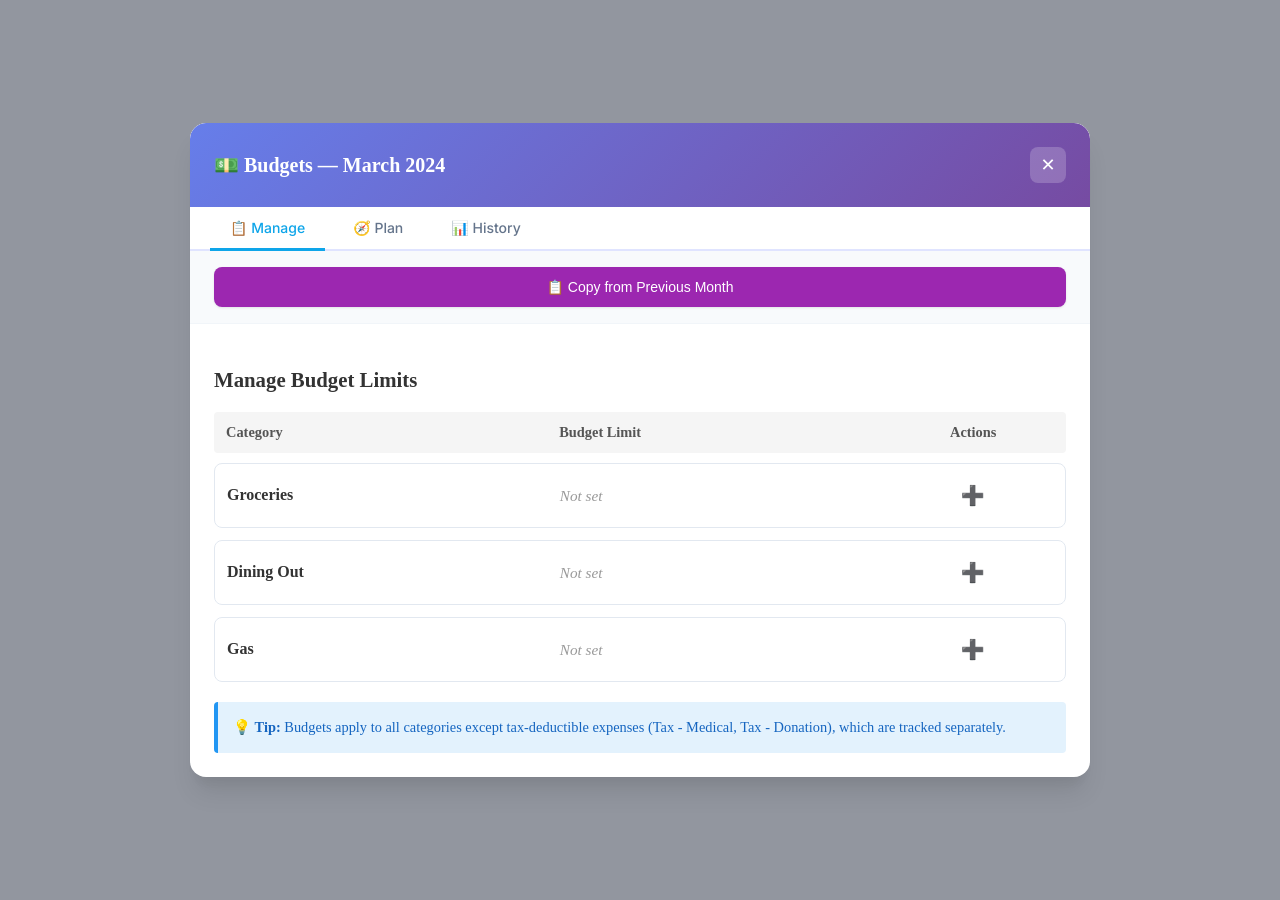
BudgetsModal Copy Success Condition PBT › Specific copy result examples › shows "No budgets found" only when { copied: 0, overwritten: 0 }
Click the button "📋 Copy from Previous Month".
click(640, 287)  # box [214,267,1066,307]
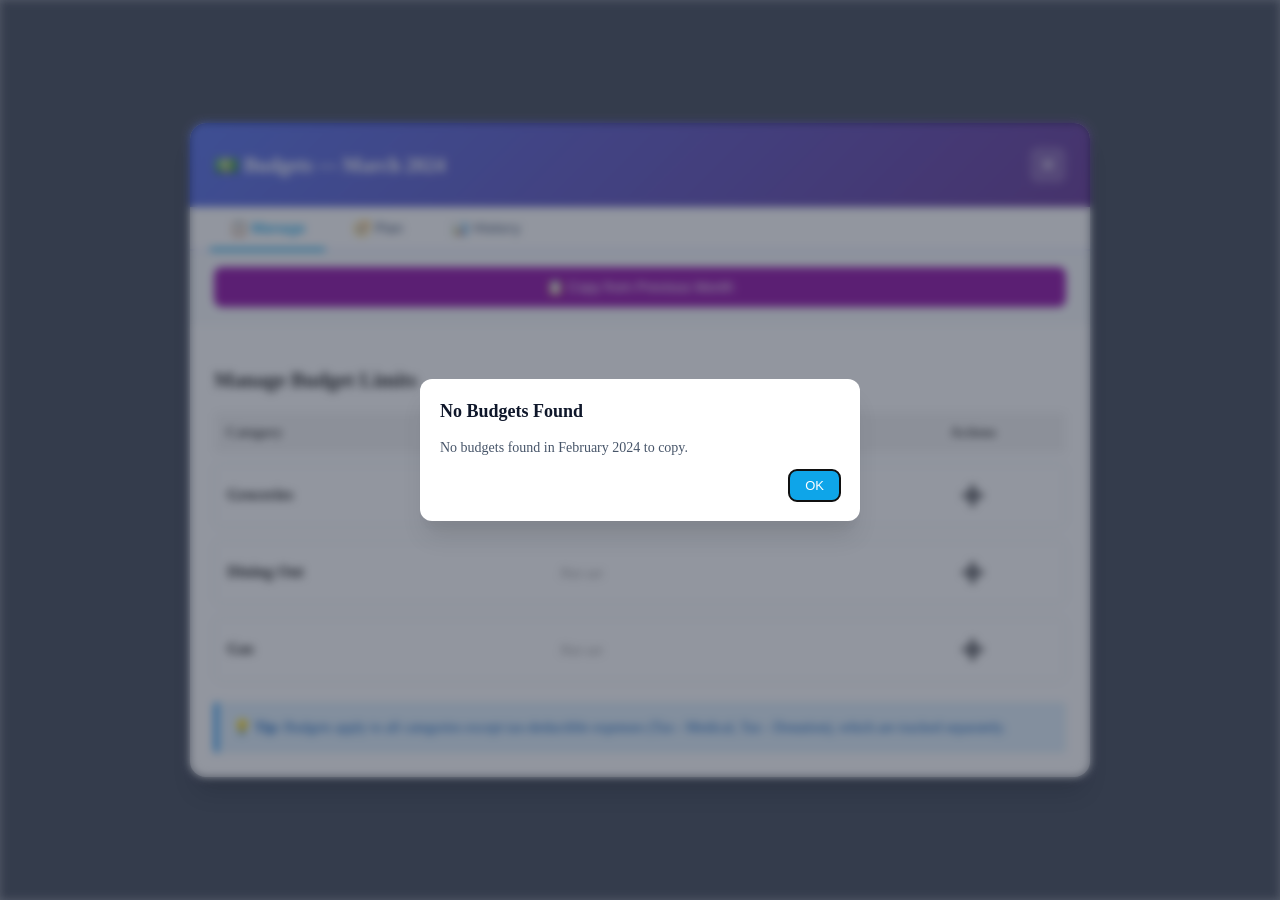
Expected: the dialog shows "No Budgets Found", [440,401,583,421]
